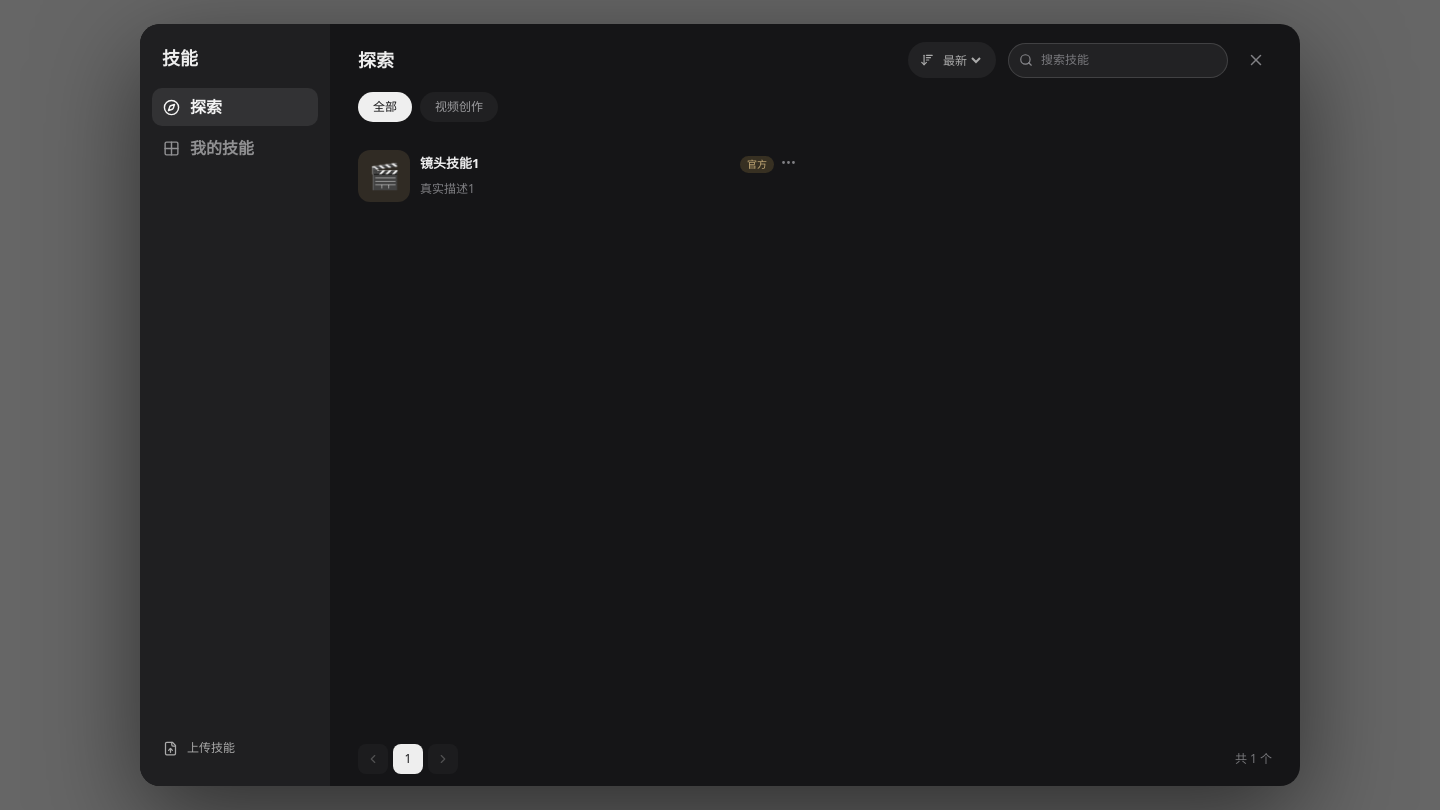
it: reference-style real skill library › opens details before selection and shows actual description, prompt length and dates
Later steps or results of the test are not shown.
Click the button "🎬 镜头技能1 官方 真实描述1".
click(384, 176)  # box [358,148,774,204]
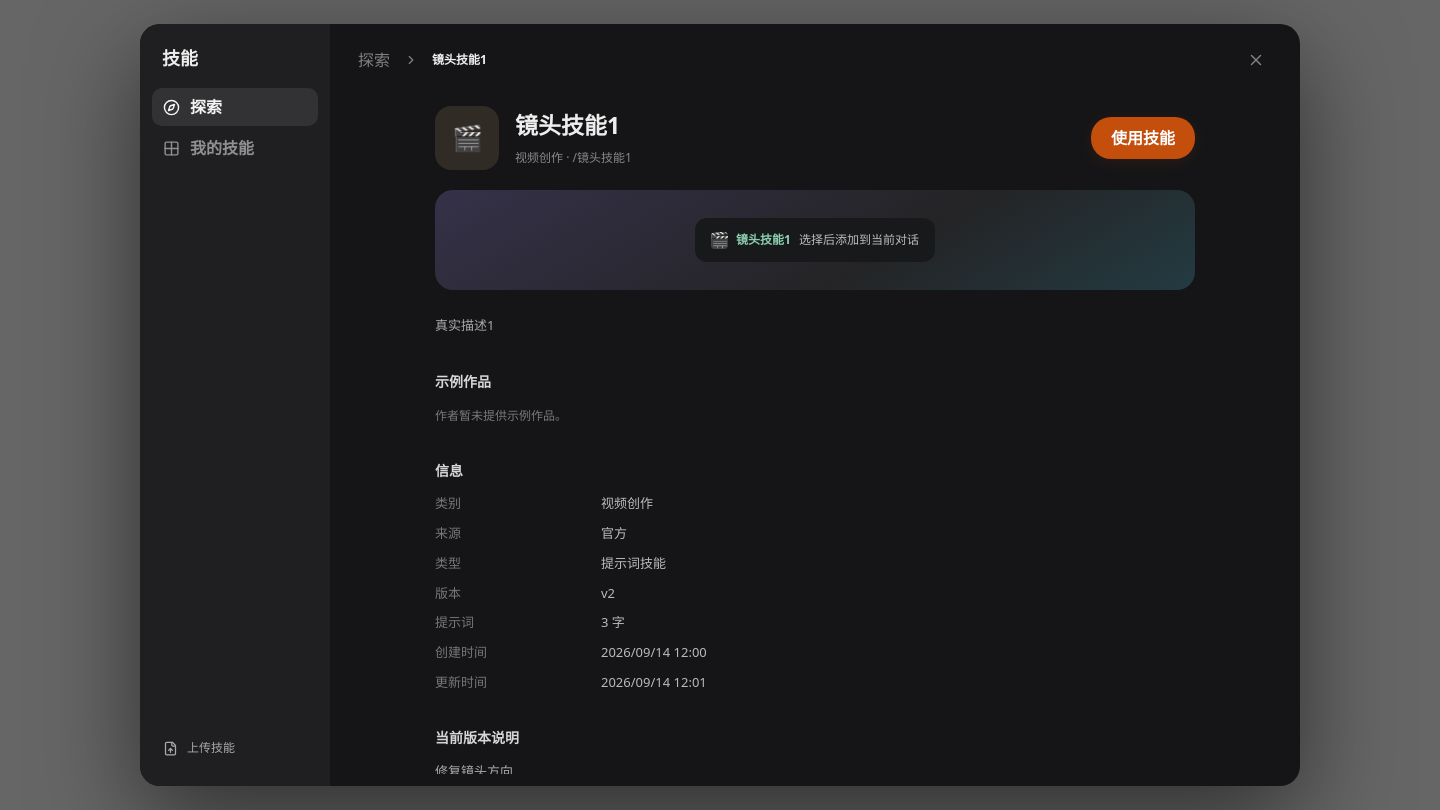
Now the element with class "skill-detail" shows "作者暂未提供示例作品", box [435,407,567,424]
Now the button "使用技能" is shown, box [1091,117,1195,159]
